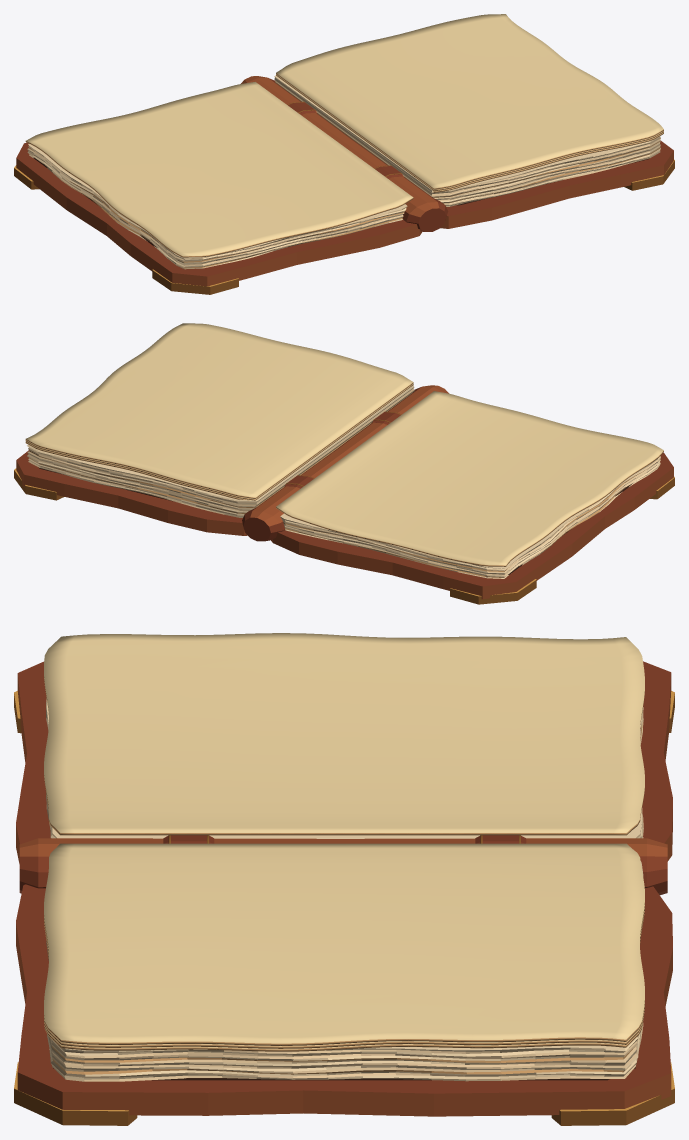
File: Book_Open_Static.fbx
3 views of the same model, one above another, from view 1: azimuth 30°, elevation 25°; view 2: azimuth 150°, elevation 25°; view 3: azimuth 270°, elevation 25° (orthographic). The views are drawn at different scales.
Visible parts, largest first — view 1: Лист А · пергамент.005, Левый форзац · пергамент.005, Кожа · крышка.010, Срез пергамента · справа.005, Кожа · крышка.011, Срез пергамента · слева.005, Гранёный корешок.005, Лист Б · пергамент.005, Латунный уголок.021, Правый форзац · пергамент.005, Латунный уголок.023; view 2: Лист А · пергамент.005, Левый форзац · пергамент.005, Кожа · крышка.010, Срез пергамента · справа.005, Кожа · крышка.011, Срез пергамента · слева.005, Гранёный корешок.005, Лист Б · пергамент.005, Латунный уголок.020, Правый форзац · пергамент.005, Латунный уголок.022; view 3: Лист А · пергамент.005, Левый форзац · пергамент.005, Кожа · крышка.011, Срез пергамента · справа.005, Кожа · крышка.010, Гранёный корешок.005, Срез пергамента · слева.005, Правый форзац · пергамент.005, Лист Б · пергамент.005, Латунный уголок.022, Латунный уголок.023, Кожа · внутренняя вставка.011.
Boxes of the visible parts, bbox=[...] form: Лист А · пергамент.005: bbox=[276, 14, 663, 189]; Левый форзац · пергамент.005: bbox=[25, 82, 413, 257]; Кожа · крышка.010: bbox=[16, 142, 422, 286]; Срез пергамента · справа.005: bbox=[274, 75, 660, 206]; Кожа · крышка.011: bbox=[440, 140, 673, 228]; Срез пергамента · слева.005: bbox=[27, 144, 407, 269]; Гранёный корешок.005: bbox=[241, 76, 448, 231]; Лист Б · пергамент.005: bbox=[276, 74, 663, 191]; Латунный уголок.021: bbox=[152, 269, 238, 294]; Правый форзац · пергамент.005: bbox=[433, 132, 663, 192]; Латунный уголок.023: bbox=[624, 159, 674, 190]; Лист А · пергамент.005: bbox=[25, 323, 413, 498]; Левый форзац · пергамент.005: bbox=[276, 391, 663, 566]; Кожа · крышка.010: bbox=[271, 452, 673, 599]; Срез пергамента · справа.005: bbox=[27, 386, 414, 517]; Кожа · крышка.011: bbox=[16, 450, 247, 535]; Срез пергамента · слева.005: bbox=[280, 456, 660, 578]; Гранёный корешок.005: bbox=[242, 385, 448, 541]; Лист Б · пергамент.005: bbox=[25, 383, 413, 500]; Латунный уголок.020: bbox=[450, 579, 536, 604]; Правый форзац · пергамент.005: bbox=[25, 385, 413, 500]; Латунный уголок.022: bbox=[14, 468, 63, 500]; Лист А · пергамент.005: bbox=[44, 843, 644, 1045]; Левый форзац · пергамент.005: bbox=[44, 633, 644, 835]; Кожа · крышка.011: bbox=[16, 884, 672, 1116]; Срез пергамента · справа.005: bbox=[46, 861, 643, 1081]; Кожа · крышка.010: bbox=[16, 661, 672, 863]; Гранёный корешок.005: bbox=[19, 838, 667, 895]; Срез пергамента · слева.005: bbox=[45, 697, 643, 838]; Правый форзац · пергамент.005: bbox=[44, 908, 644, 1051]; Лист Б · пергамент.005: bbox=[44, 905, 644, 1048]; Латунный уголок.022: bbox=[551, 1062, 674, 1125]; Латунный уголок.023: bbox=[14, 1062, 137, 1125]; Кожа · внутренняя вставка.011: bbox=[53, 1067, 635, 1080].
Bounding box in the file's own units: 5.6 × 0.483 × 3.54.
